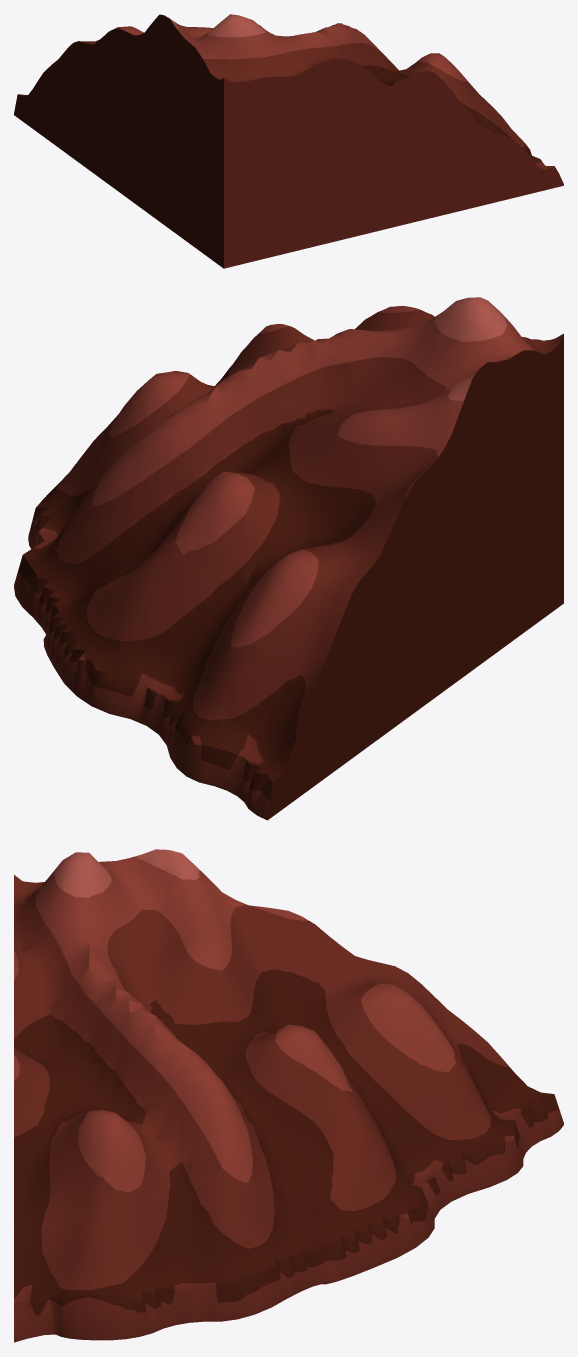
Rendered from brain_top_r.glb.
3 views of the same model, one above another, from view 1: azimuth 30°, elevation 25°; view 2: azimuth 150°, elevation 25°; view 3: azimuth 270°, elevation 25° (orthographic). The views are drawn at different scales.
Visible parts, largest first — view 1: hemispheres; view 2: hemispheres; view 3: hemispheres.
Part boxes in pixels (box(x1,y1,x2,y2)): hemispheres: box(14, 14, 563, 268); hemispheres: box(14, 297, 563, 820); hemispheres: box(14, 849, 563, 1342).
Bounding box in the file's own units: 23.24 × 14.71 × 24.83.
